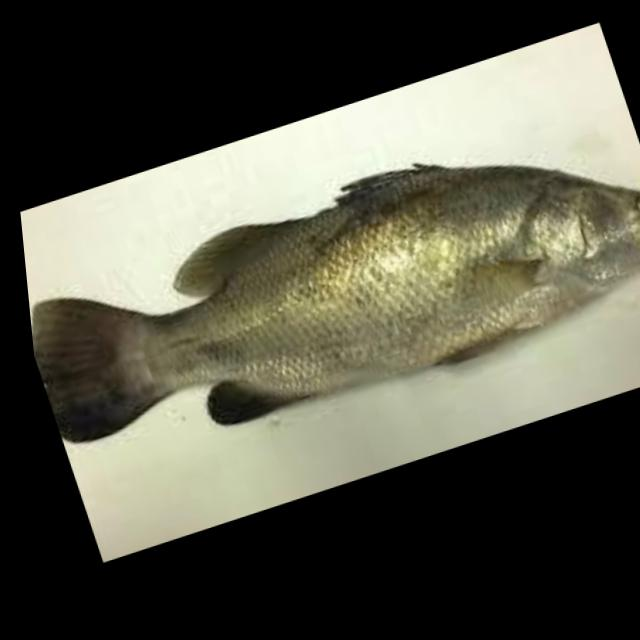Seabass: (14, 86, 640, 488)
